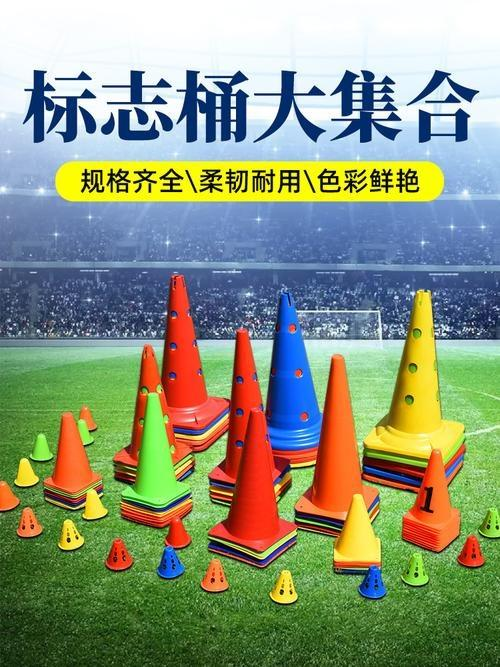cone_barrel: (365, 295, 466, 478), (298, 348, 371, 531), (147, 277, 220, 429), (261, 291, 323, 462), (213, 328, 282, 479), (217, 408, 287, 550), (121, 346, 186, 461), (124, 391, 184, 500), (400, 453, 464, 549), (261, 69, 320, 145), (43, 411, 98, 489), (328, 492, 383, 562), (266, 566, 298, 605), (101, 533, 133, 571), (197, 555, 229, 593), (399, 549, 429, 585), (454, 531, 484, 567), (55, 516, 83, 551), (11, 455, 41, 487), (13, 504, 41, 538), (79, 487, 108, 519), (28, 429, 51, 466), (475, 506, 499, 539), (76, 406, 100, 432), (76, 418, 94, 447)
